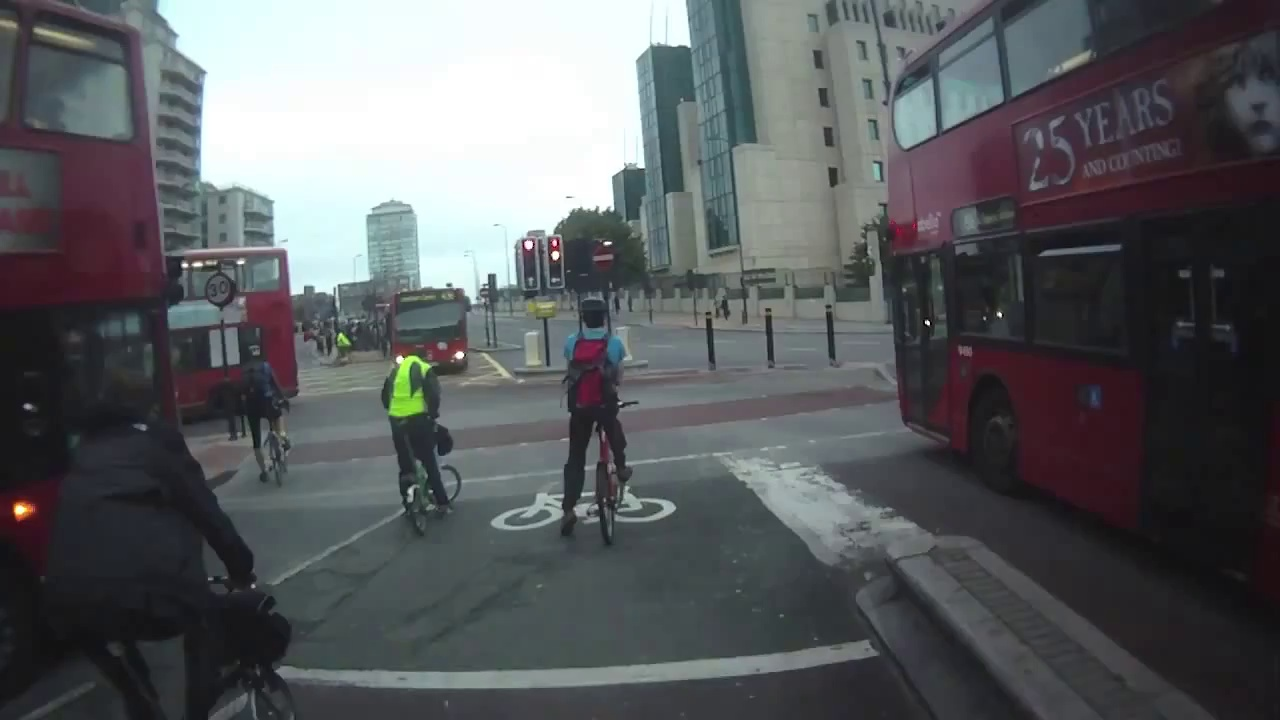cyclist_back: (557, 300, 653, 562), (378, 343, 472, 542)
